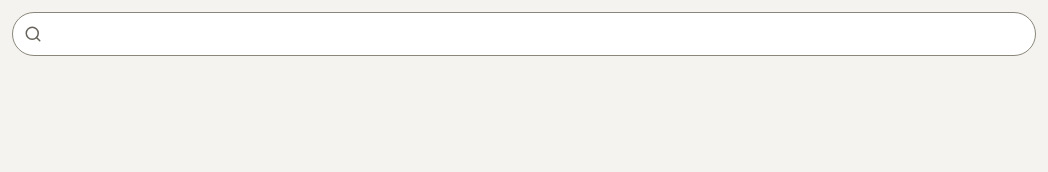
Test: SearchField › el botón de limpiar aparece solo si hay texto, y lo borra
In the search field: {"x": 524, "y": 34} [12,12,1036,56], type "gomez"
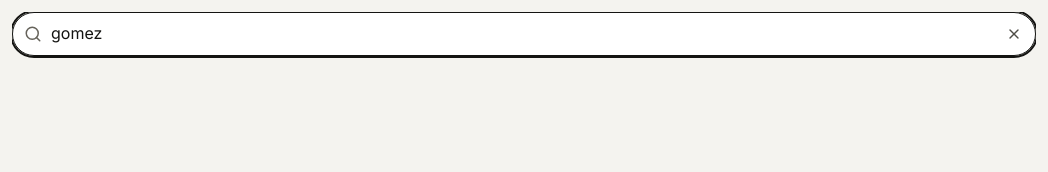
Click the button named "Limpiar búsqueda": {"x": 1014, "y": 34} [996,16,1032,52]
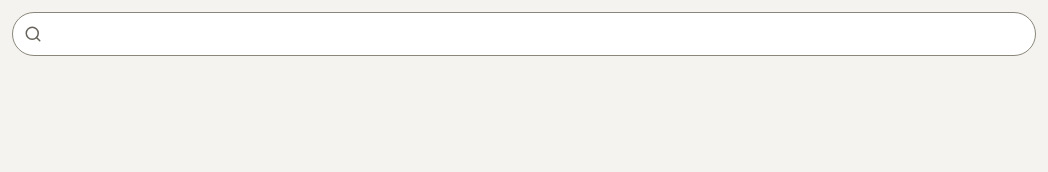
Check: the search field is empty, box [12,12,1036,56]
